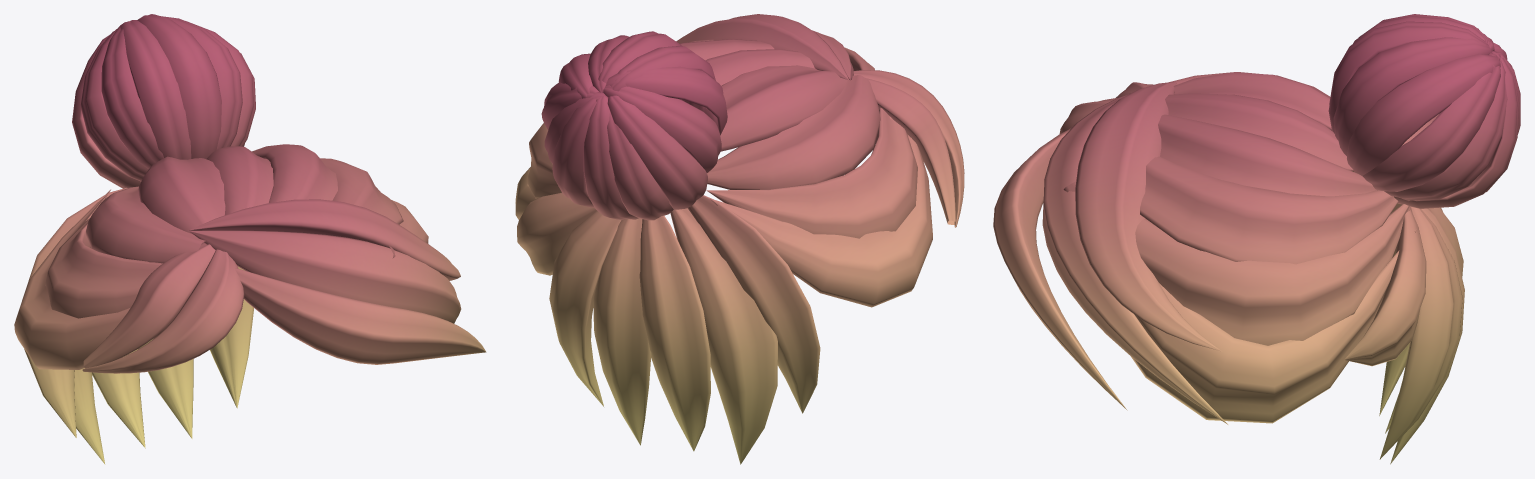
The model's file is haire1.fbx.
The picture shows the model from 3 angles, left to right: view 1: azimuth 30°, elevation 25°; view 2: azimuth 150°, elevation 25°; view 3: azimuth 270°, elevation 25°; orthographic projection. The views are drawn at different scales.
Parts seen in each view (by area): view 1: NurbsPath.038; view 2: NurbsPath.038; view 3: NurbsPath.038.
Part boxes in pixels (left/top/right/bottom): NurbsPath.038: left=14, top=14, right=486, bottom=464; NurbsPath.038: left=515, top=14, right=964, bottom=464; NurbsPath.038: left=993, top=14, right=1520, bottom=464.
Size of the model in its own units: 300 by 277 by 273.
